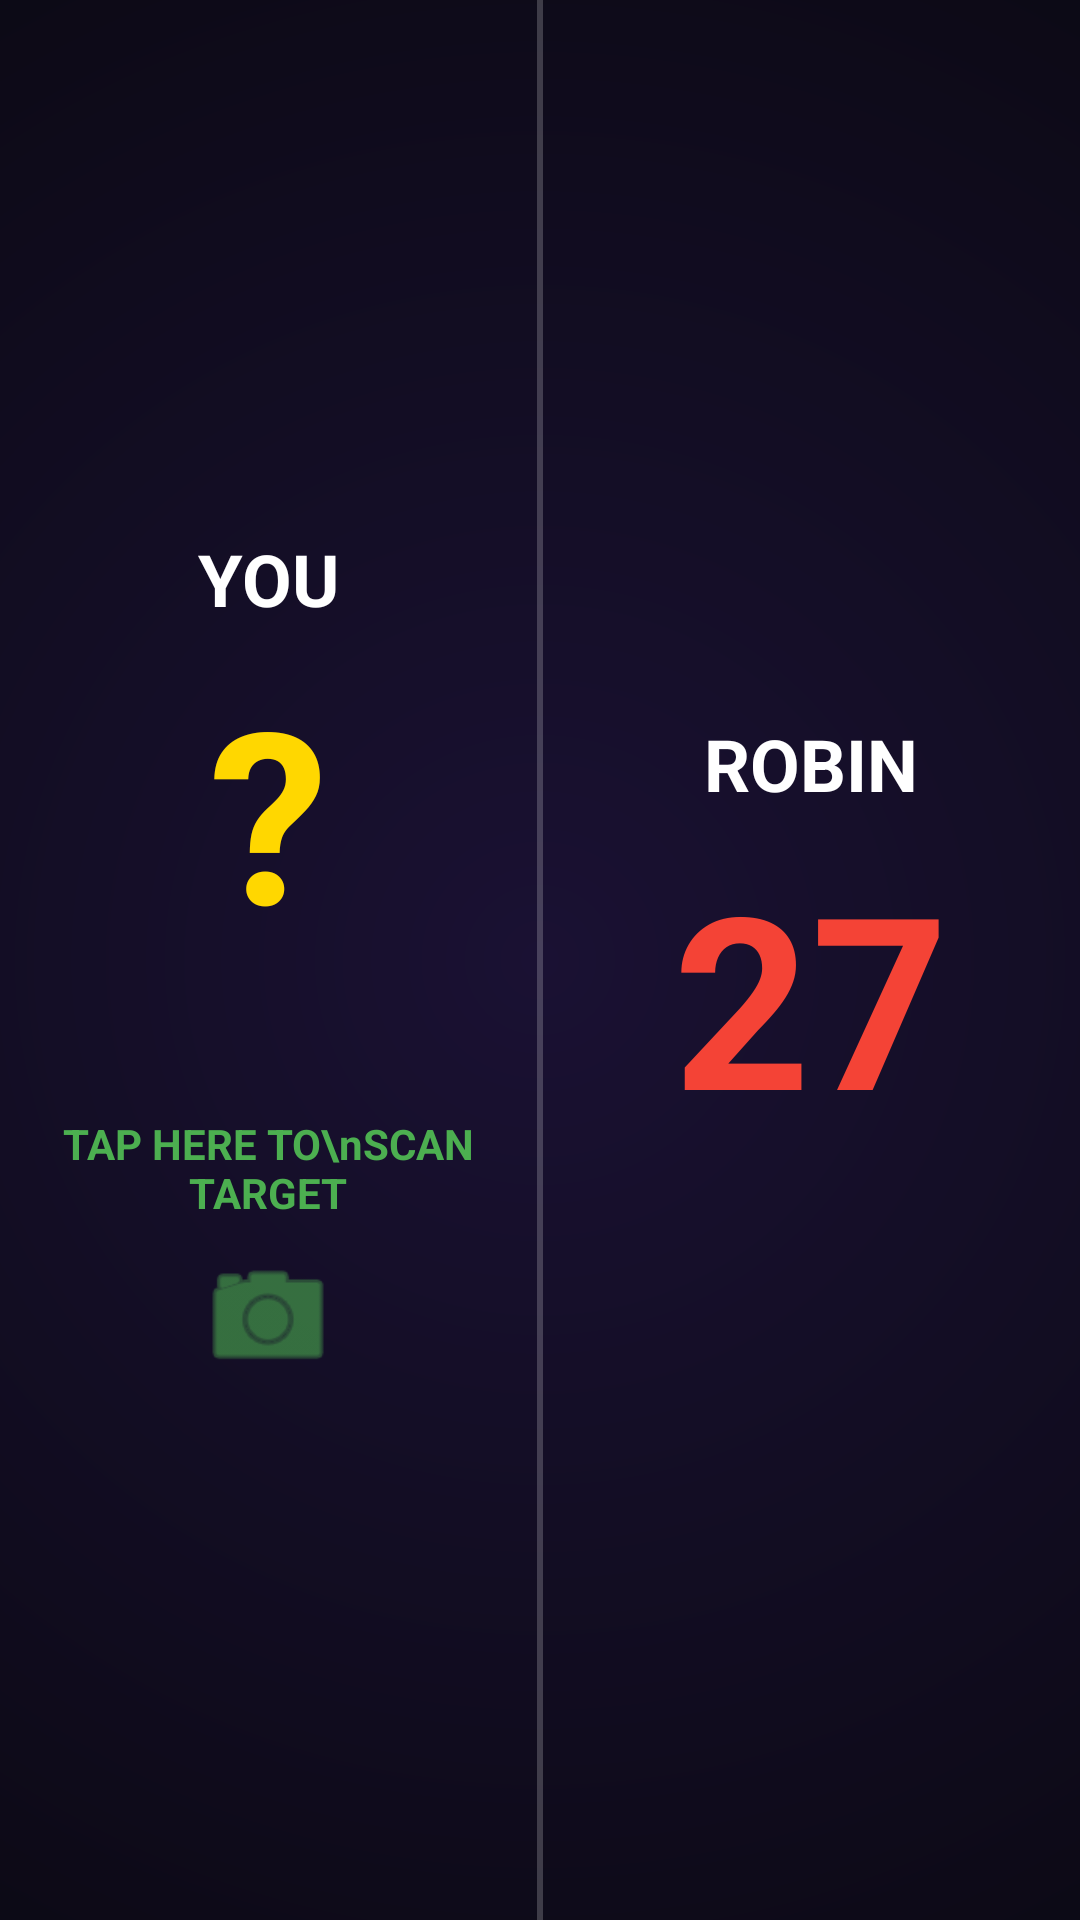

Where icons sit on this 1080 × 1920 app screen, as (x1, y1, x2, y2):
camera: (213, 1271, 323, 1359)
